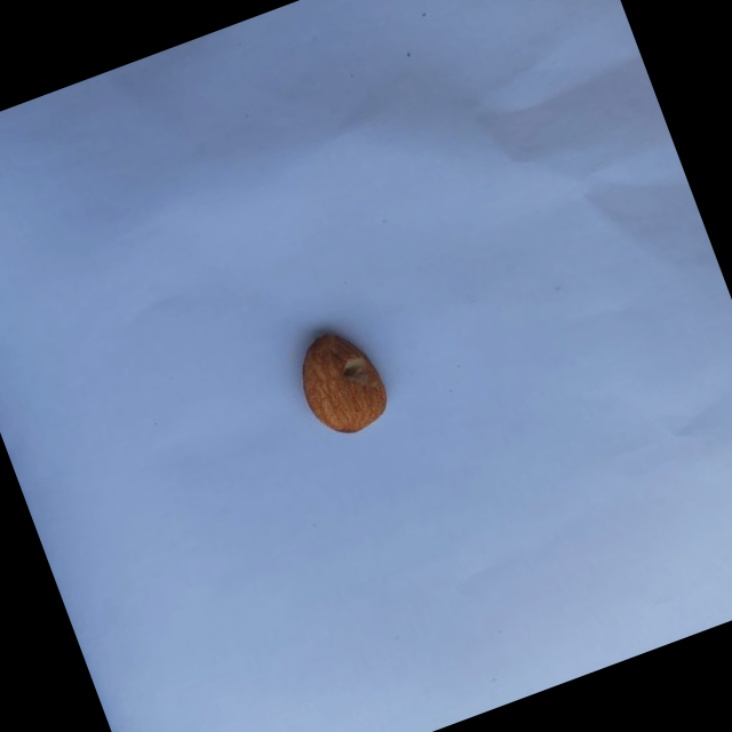grade3: (283, 314, 403, 450)
